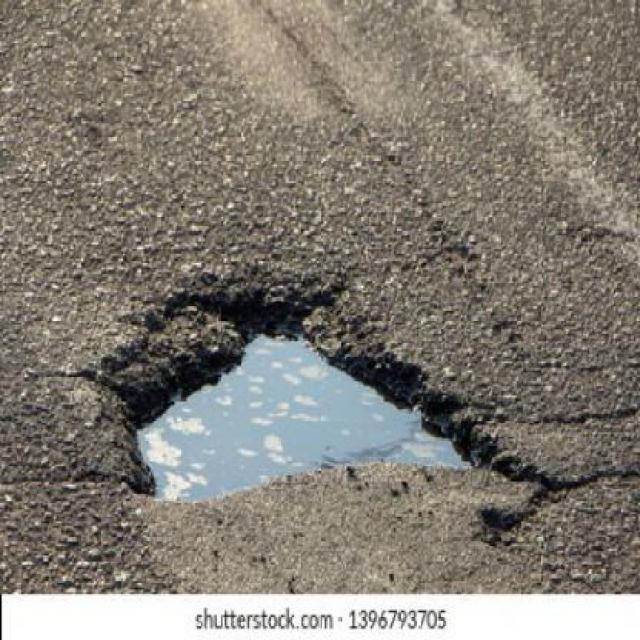Pothole: (90, 272, 496, 500)
